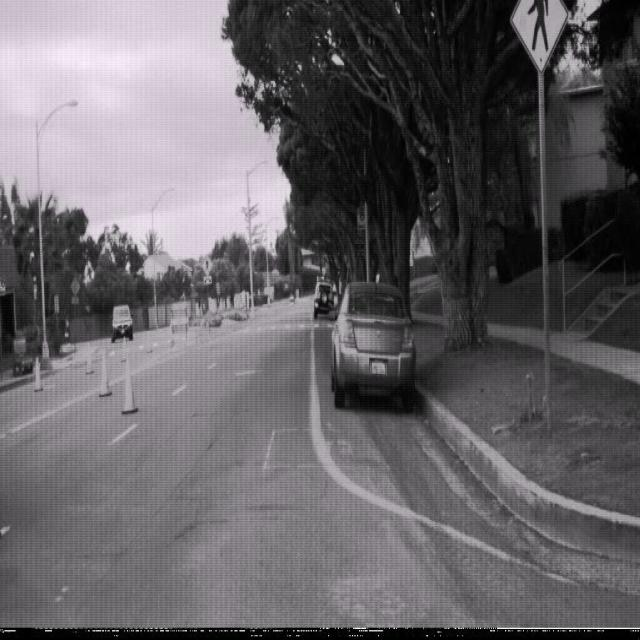pedestrianCrossing: (201, 253, 213, 277)
